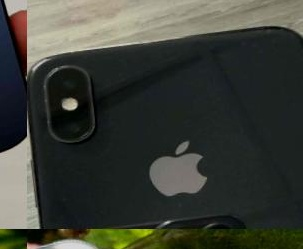scratch: (29, 75, 56, 135), (44, 185, 77, 209), (164, 193, 194, 210)
